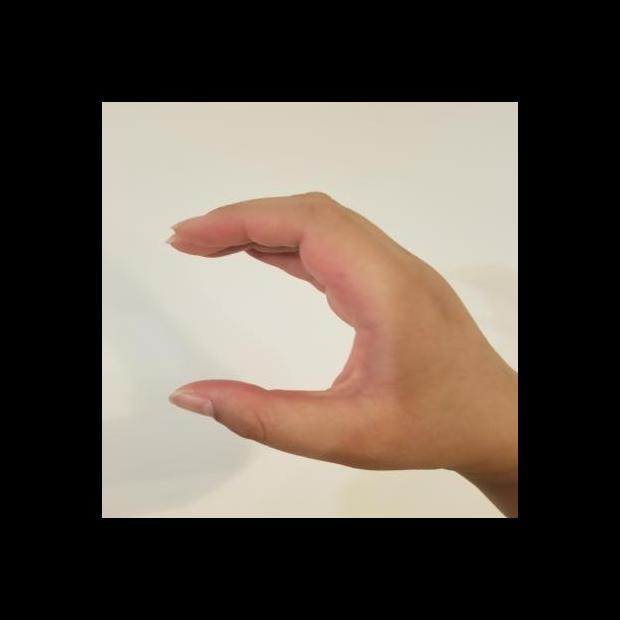B: (156, 189, 507, 478)
